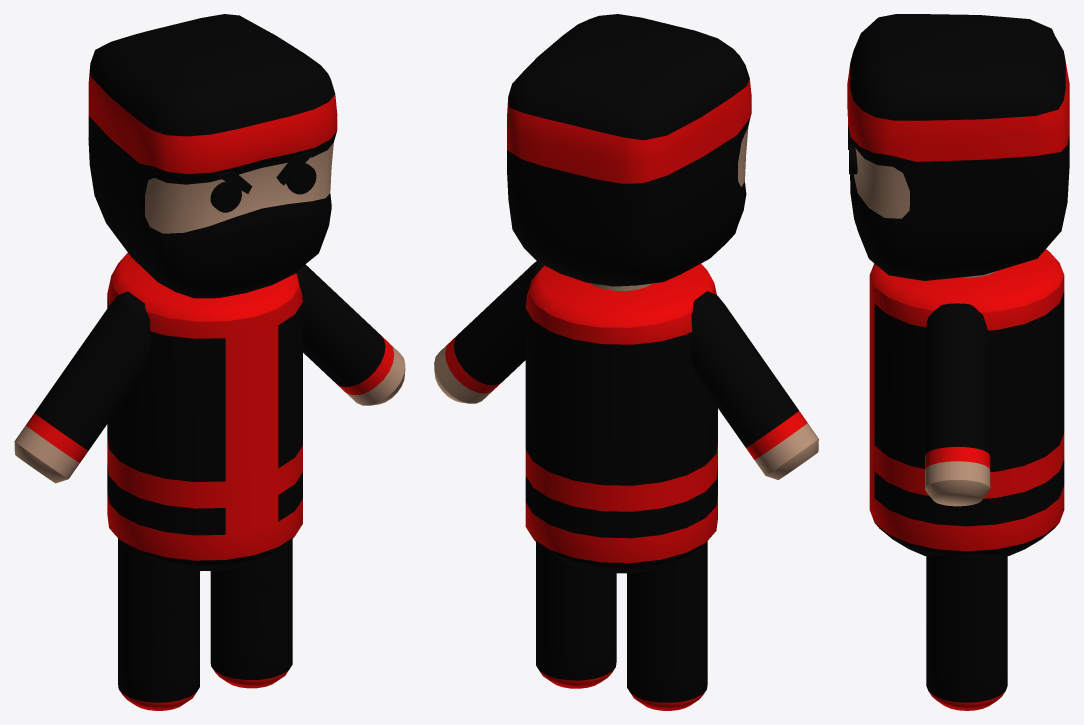
The model's file is PJYoru.fbx.
3 views of the same model, side by side, from view 1: azimuth 30°, elevation 25°; view 2: azimuth 150°, elevation 25°; view 3: azimuth 270°, elevation 25° (orthographic).
Visible parts, largest first — view 1: polySurface7, polySurface6, polySurface5, polySurface2, polySurface13, polySurface12, polySurface9, polySurface8; view 2: polySurface7, polySurface6, polySurface5, polySurface2, polySurface13, polySurface12; view 3: polySurface7, polySurface6, polySurface12, polySurface13.
Part boxes in pixels (x1,y1,x2,y2): polySurface7: (88, 14, 337, 298); polySurface6: (107, 253, 302, 571); polySurface5: (14, 291, 150, 483); polySurface2: (118, 538, 199, 710); polySurface13: (210, 539, 292, 688); polySurface12: (296, 264, 405, 405); polySurface9: (210, 181, 241, 212); polySurface8: (286, 163, 316, 194); polySurface7: (507, 14, 751, 286); polySurface6: (525, 263, 717, 573); polySurface5: (691, 291, 818, 479); polySurface2: (627, 541, 707, 710); polySurface13: (536, 542, 616, 688); polySurface12: (434, 261, 544, 403); polySurface7: (847, 14, 1069, 280); polySurface6: (869, 249, 1064, 556); polySurface12: (925, 303, 990, 506); polySurface13: (926, 553, 1007, 710).
Size of the model in its own units: 6.39 by 10.32 by 3.26.
